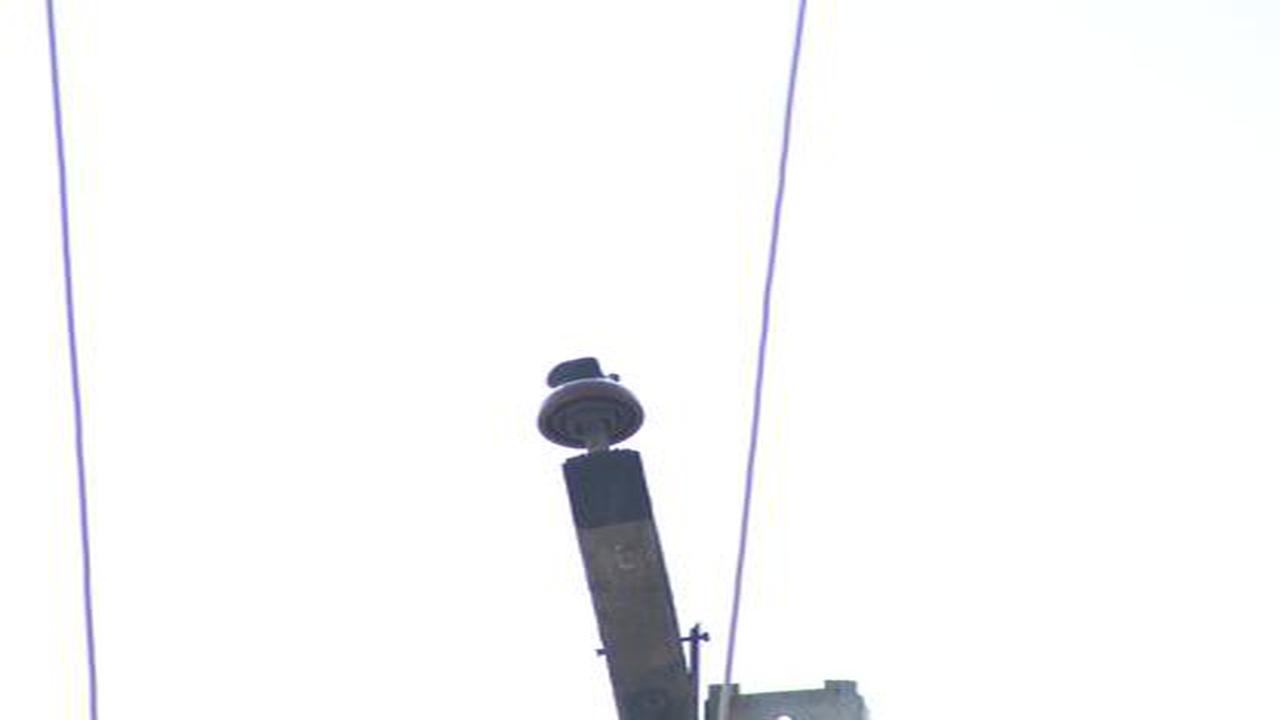insulator_pin: (534, 351, 646, 455)
